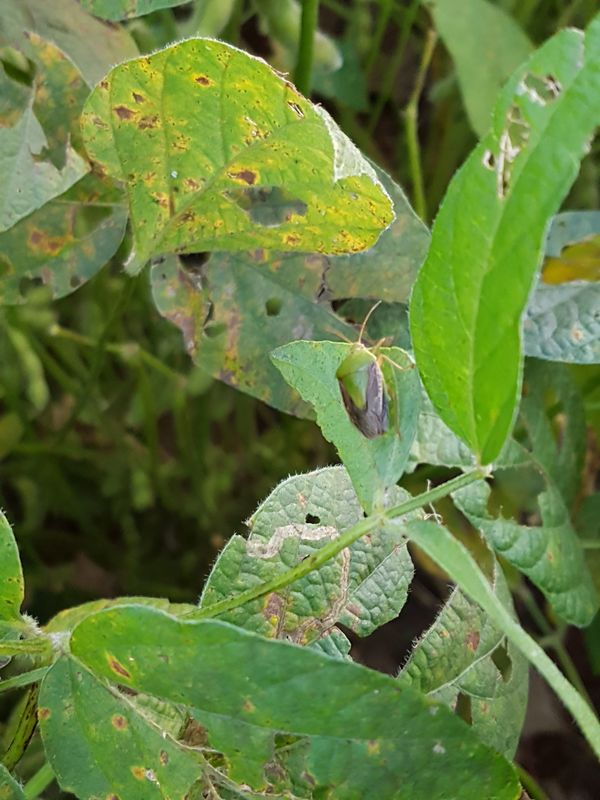Edessa_meditabunda: (297, 289, 425, 457)
